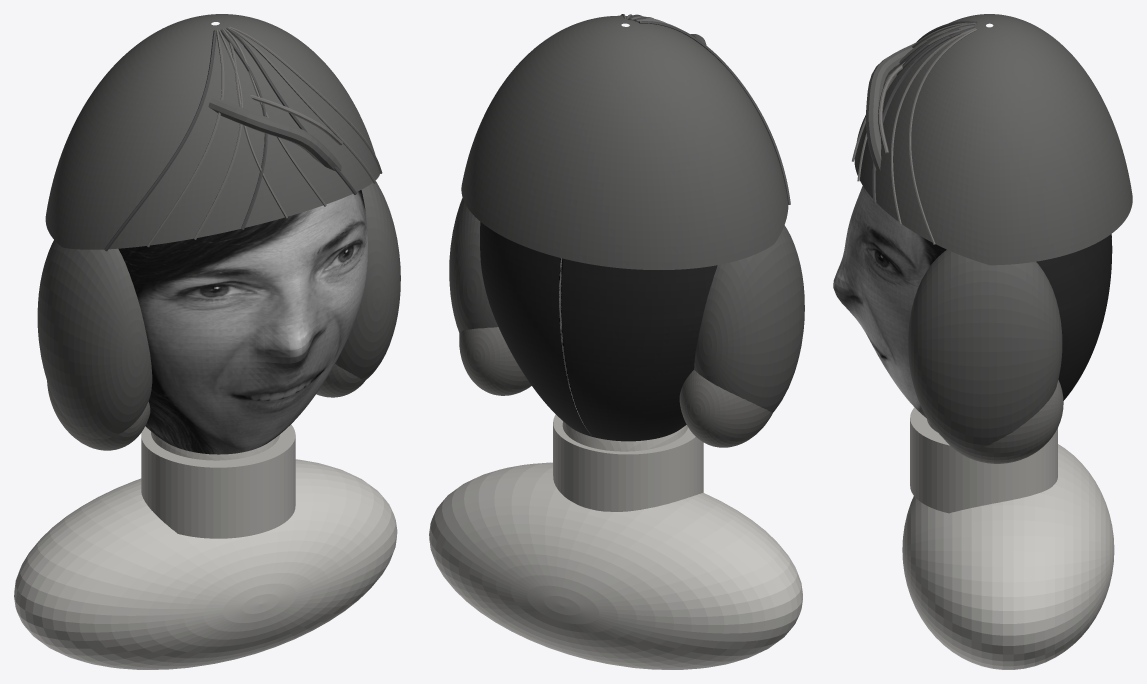
File: dian_fossey_3d_model.glb
The picture shows the model from 3 angles, left to right: view 1: azimuth 30°, elevation 25°; view 2: azimuth 150°, elevation 25°; view 3: azimuth 270°, elevation 25°; orthographic projection. The views are drawn at different scales.
Parts seen in each view (by area): view 1: Sweater shoulders and bust, Sculpted hair cap, Face and skull, Left hair side lock, Sweater collar outer, Right hair side lock, Swept front fringe, Left lower hair curl, Hair strand 1, Right lower hair curl, Neck, Hair strand 2 (+5 smaller); view 2: Sculpted hair cap, Sweater shoulders and bust, Face and skull, Left hair side lock, Sweater collar outer, Left lower hair curl, Right hair side lock, Right lower hair curl, Neck, Hair strand 1; view 3: Sculpted hair cap, Sweater shoulders and bust, Right hair side lock, Face and skull, Sweater collar outer, Right lower hair curl, Swept front fringe, Hair strand 9, Hair strand 8, Hair strand 7, Front fringe highlight.
Part boxes in pixels (x1,y1,x2,y2): Sweater shoulders and bust: [14, 459, 397, 669]; Sculpted hair cap: [45, 14, 379, 249]; Face and skull: [118, 190, 367, 454]; Left hair side lock: [37, 240, 152, 439]; Sweater collar outer: [141, 424, 295, 538]; Right hair side lock: [335, 181, 400, 380]; Swept front fringe: [208, 97, 341, 171]; Left lower hair curl: [47, 381, 150, 450]; Hair strand 1: [104, 30, 216, 251]; Right lower hair curl: [316, 364, 365, 397]; Neck: [151, 431, 279, 460]; Hair strand 2: [147, 30, 224, 247]; Sculpted hair cap: [461, 15, 788, 269]; Sweater shoulders and bust: [429, 462, 802, 669]; Face and skull: [480, 222, 717, 441]; Left hair side lock: [694, 225, 804, 412]; Sweater collar outer: [553, 414, 703, 511]; Left lower hair curl: [679, 370, 772, 447]; Right hair side lock: [449, 198, 498, 332]; Right lower hair curl: [459, 327, 531, 395]; Neck: [562, 421, 687, 451]; Hair strand 1: [639, 21, 790, 204]; Sculpted hair cap: [854, 14, 1132, 265]; Sweater shoulders and bust: [902, 444, 1114, 669]; Right hair side lock: [908, 250, 1062, 449]; Face and skull: [833, 186, 1112, 418]; Sweater collar outer: [910, 407, 1057, 513]; Right lower hair curl: [944, 380, 1063, 463]; Swept front fringe: [866, 42, 916, 172]; Hair strand 9: [909, 28, 976, 244]; Hair strand 8: [891, 28, 975, 224]; Hair strand 7: [872, 26, 974, 202]; Front fringe highlight: [878, 61, 905, 153].
Size of the model in its own units: 1.84 by 3.04 by 1.36.
1 material, 1 textured.
